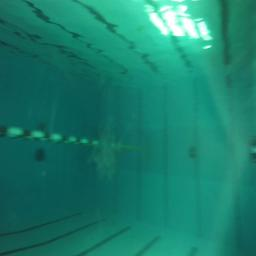Full: (249, 136, 256, 164), (189, 148, 197, 157)
